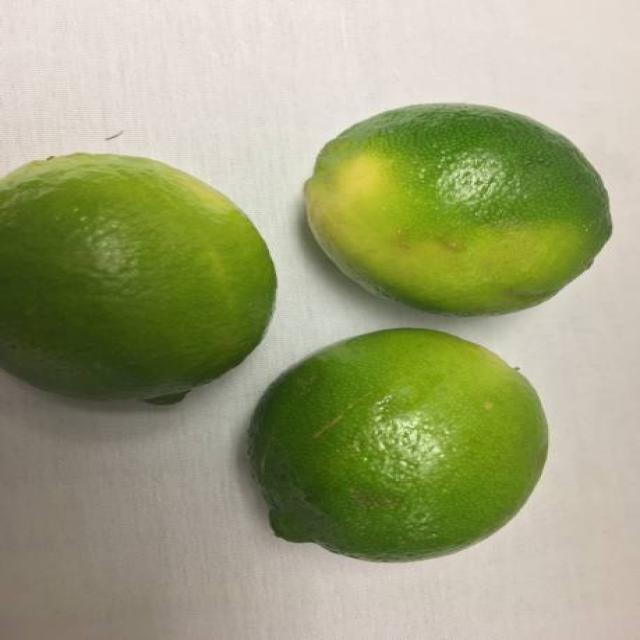Unripe: (2, 148, 280, 407), (250, 327, 550, 562), (304, 100, 616, 317)
